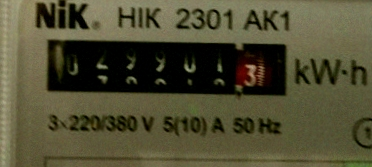0: (62, 49, 80, 76), (181, 45, 197, 75)
1: (212, 45, 225, 73)
2: (92, 43, 110, 71)
3: (241, 61, 258, 87)
9: (122, 44, 138, 71), (153, 46, 166, 73)
screen: (36, 28, 298, 106)
